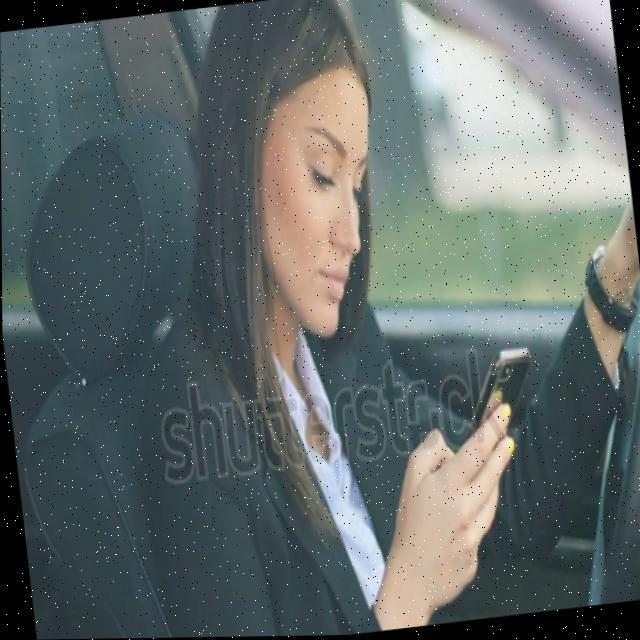PhoneCall: (447, 348, 538, 448)
